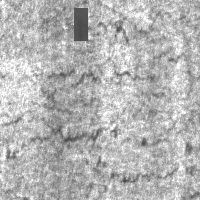crazing: (1, 65, 172, 156), (38, 9, 188, 84), (42, 124, 183, 184)
inclusion: (74, 8, 88, 41)
